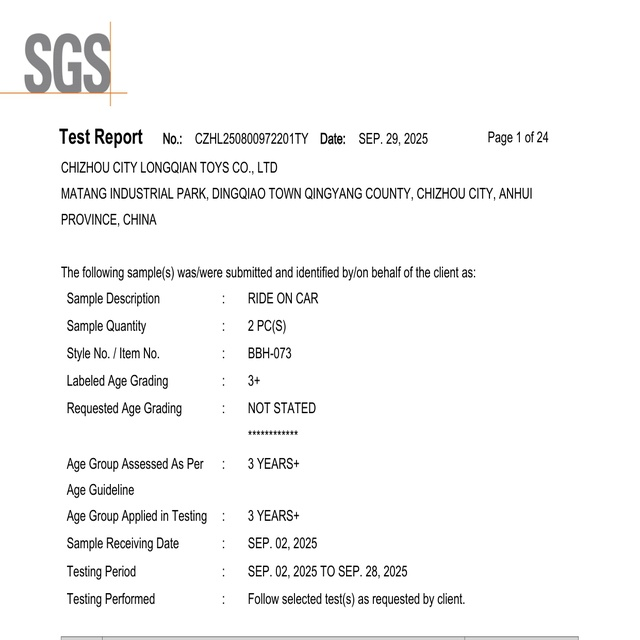sgs: (24, 32, 112, 94)
